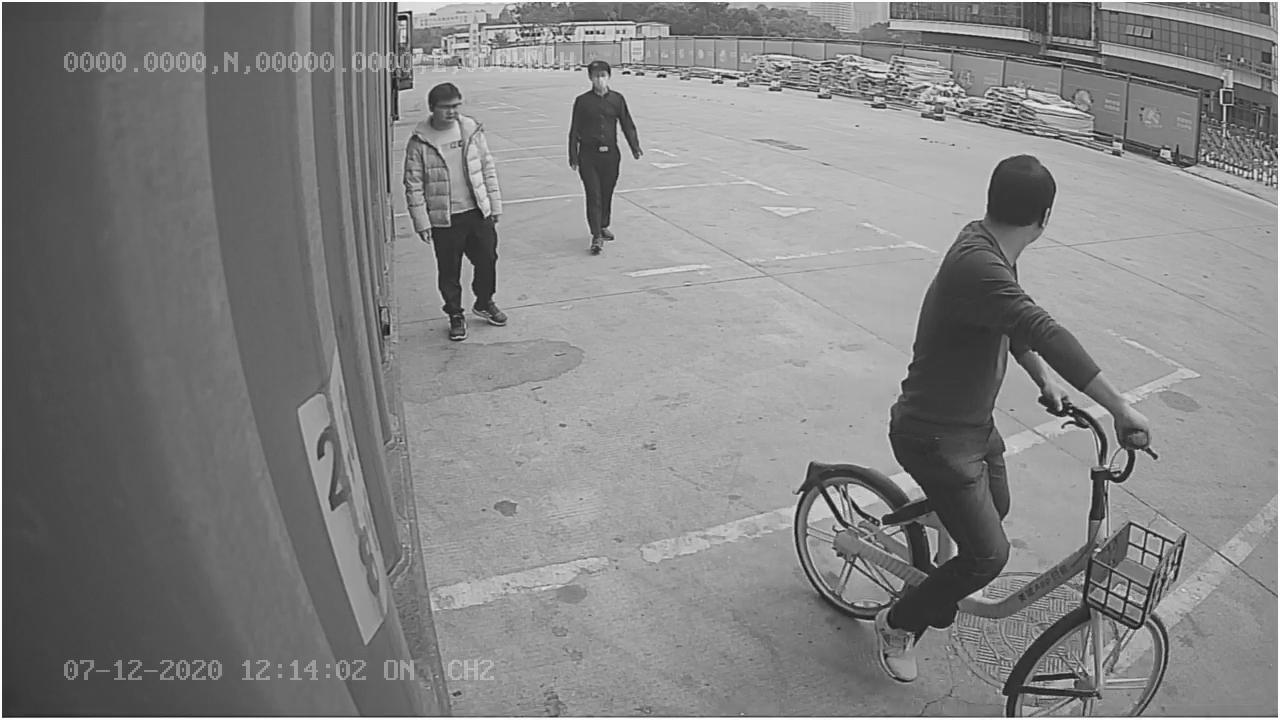person: (404, 79, 511, 345), (557, 55, 648, 262)
